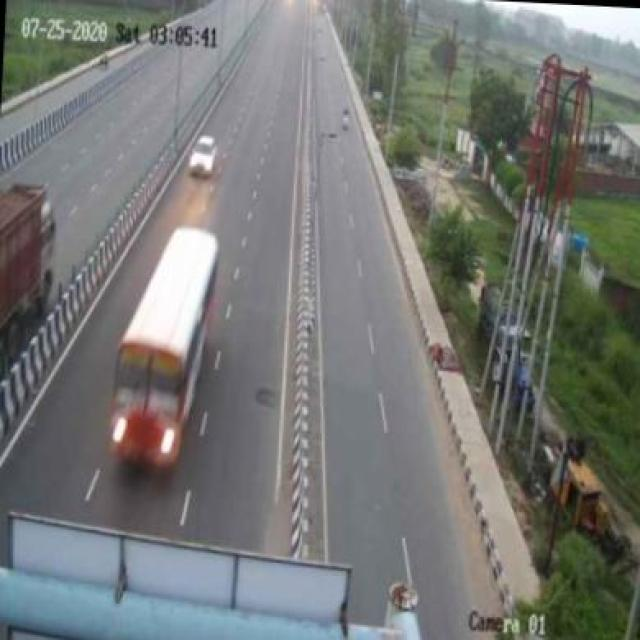car: (187, 123, 222, 186)
